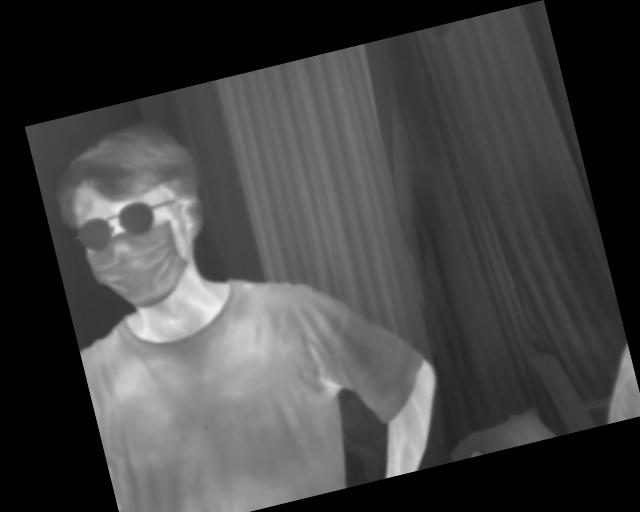face: (49, 113, 226, 321)
